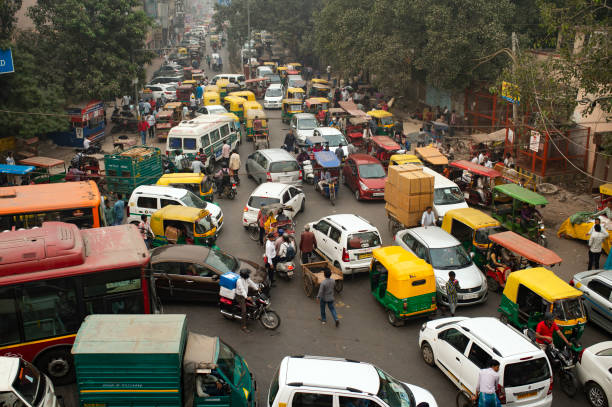bike: (223, 268, 282, 330), (271, 227, 296, 280)
bus: (1, 223, 152, 359), (1, 177, 111, 229), (171, 115, 237, 162)
car: (418, 314, 553, 407), (272, 353, 439, 407), (400, 226, 494, 298), (156, 246, 271, 297), (133, 184, 229, 233), (313, 210, 378, 270), (243, 182, 307, 230), (249, 148, 307, 190), (346, 155, 392, 201), (579, 263, 611, 319), (313, 126, 354, 152), (293, 111, 318, 144), (264, 81, 285, 109)
rickshaw: (507, 270, 586, 344), (368, 246, 437, 320), (494, 184, 550, 246), (492, 232, 556, 282), (151, 207, 217, 245), (448, 210, 493, 249), (315, 147, 344, 202), (242, 109, 275, 139), (169, 171, 211, 191), (370, 108, 392, 136), (281, 98, 303, 120)
truck: (78, 317, 257, 406), (106, 144, 163, 194)
